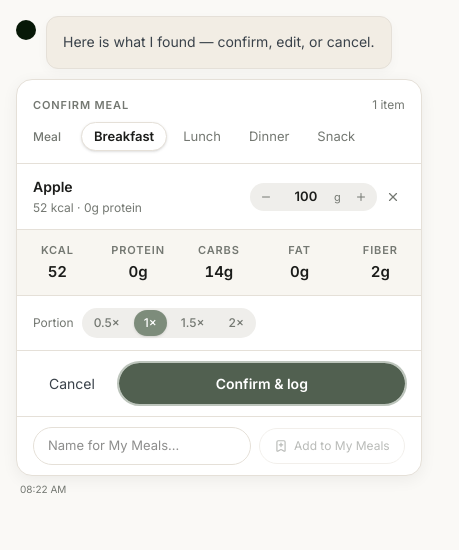
Test: failed confirm keeps the card actionable (#55) › shows an inline error with Retry, and Retry re-sends
Step 1. Click the button "Confirm & log" → {"x": 262, "y": 384}, box [119,363,405,404]
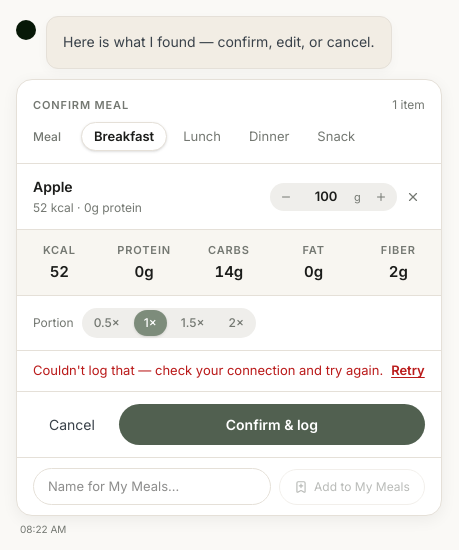
Expected: the button "Confirm & log" is shown, [119,404,425,445]
Result: the message shows "Couldn't log that" at [33,362,383,378]
Step 2. Click the button "Retry" → {"x": 408, "y": 371}, box [391,361,425,381]
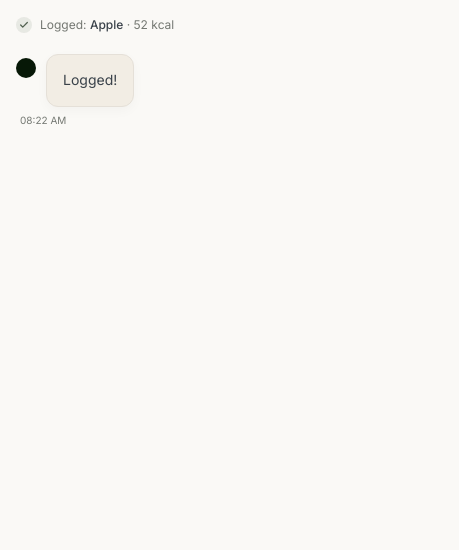
Result: the message "Couldn't log that — check your connection and try again. Retry" is gone
